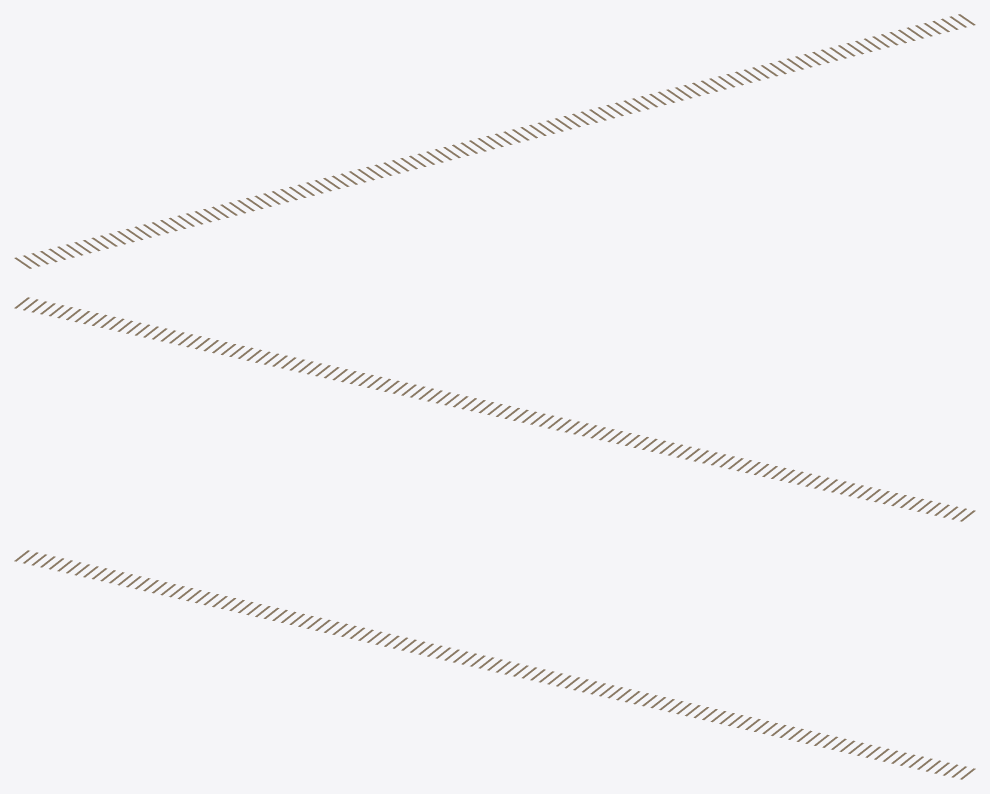
The model's file is c_1623_17827_rail_sleeper.glb.
3 renders of one model, top to bottom at view 1: azimuth 30°, elevation 25°; view 2: azimuth 150°, elevation 25°; view 3: azimuth 330°, elevation 25°, orthographic. The views are drawn at different scales.
Parts seen in each view (by area): view 1: geometry_0; view 2: geometry_0; view 3: geometry_0.
Boxes of the visible parts, <box> form: geometry_0: <box>14,14,975,268</box>; geometry_0: <box>14,297,975,521</box>; geometry_0: <box>14,550,975,779</box>.
Size of the model in its own units: 88.21 by 0.2334 by 4.96.
